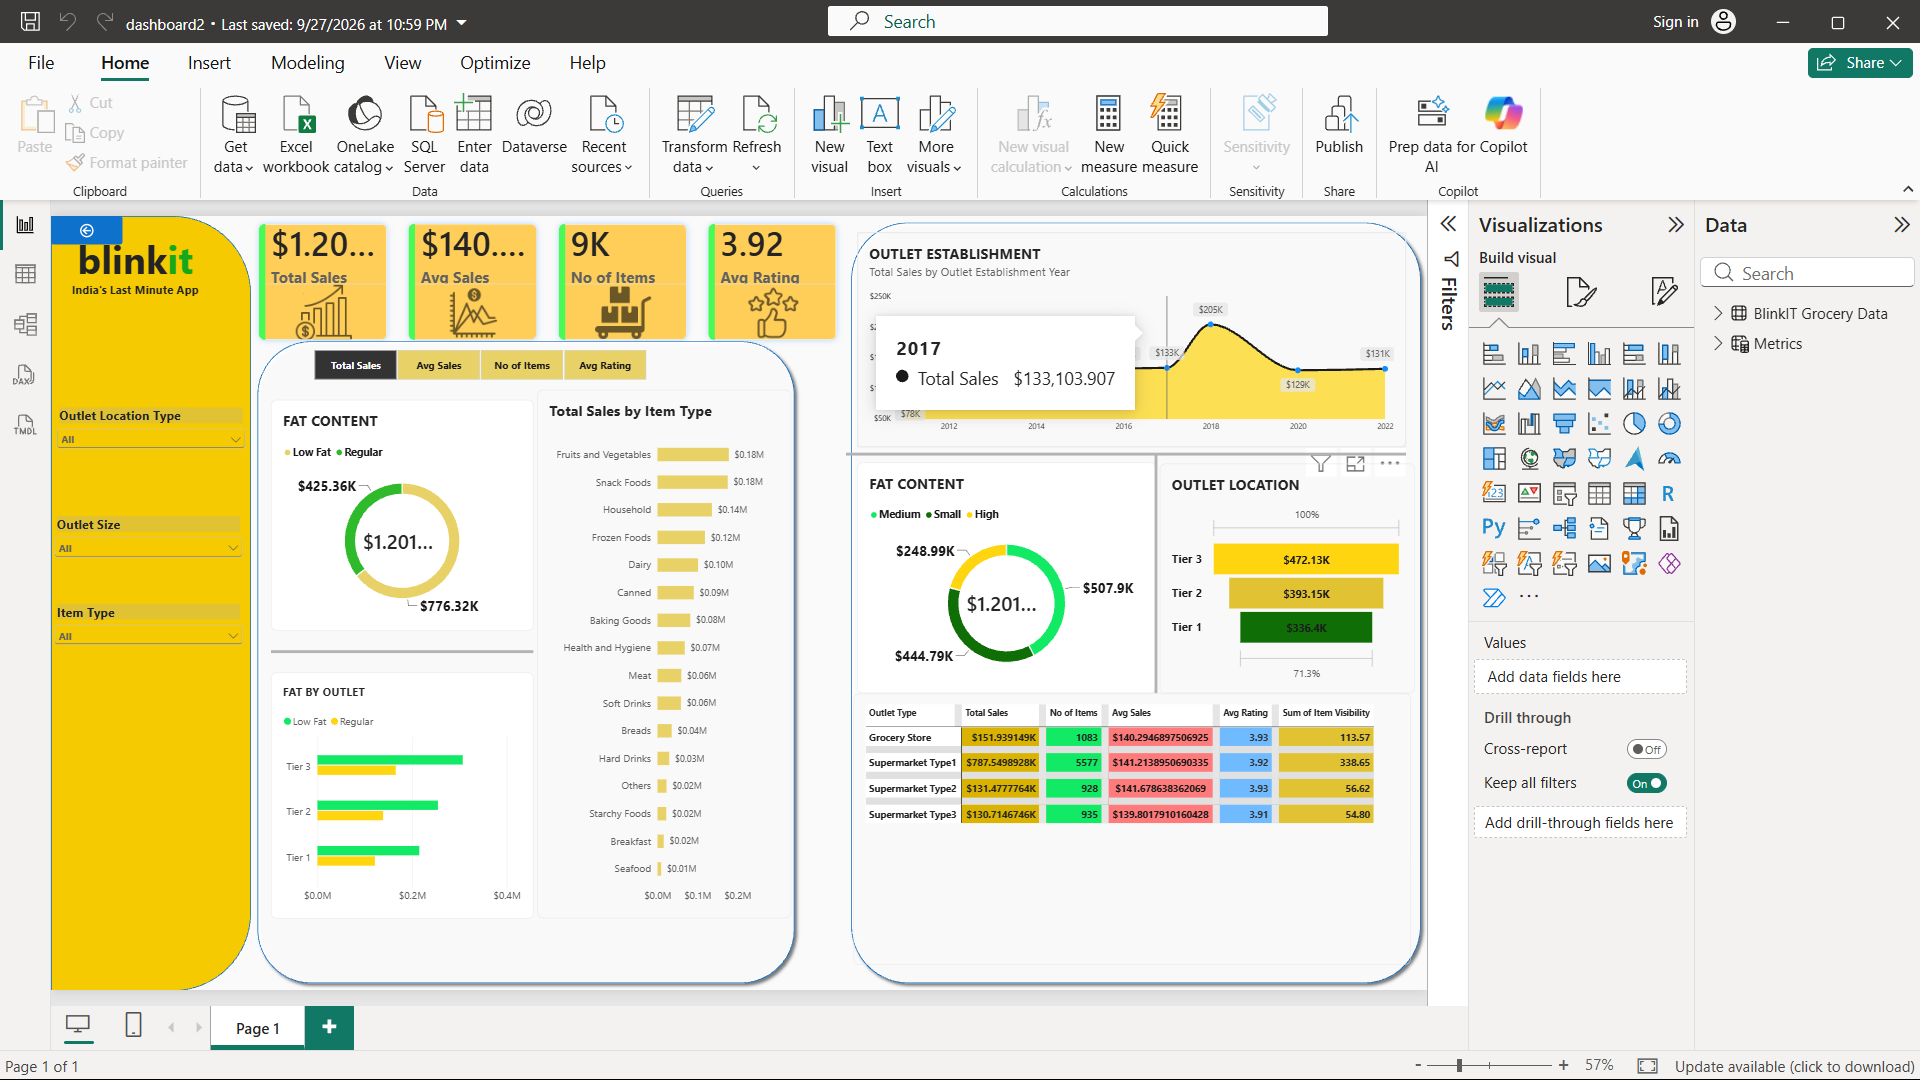

What the dashboard file says about the page in this screenshot:
{"tool":"powerbi","page":{"name":"Page 1","canvas":[1920,1080],"ordinal":0},"visuals":[{"type":"shape","box":[0,0,279.1,1081.4],"z":0},{"type":"textbox","box":[290,0,280,1080],"z":1000},{"type":"textbox","box":[0,90.7,235.5,75],"z":2000},{"type":"textbox","box":[0,22.7,235.5,80.2],"z":3000},{"type":"actionButton","box":[0,0,100,40],"z":4000},{"type":"cardVisual","fields":{"Data":["BlinkIT Grocery Data.Total Sales","BlinkIT Grocery Data.Avg Sales","BlinkIT Grocery Data.No of Items","BlinkIT Grocery Data.Avg Rating"]},"box":[279.1,0,830.2,184.9],"z":5000},{"type":"shape","box":[279.1,165.7,767.4,914],"z":6000},{"type":"donutChart","title":"FAT CONTENT","fields":{"Category":["BlinkIT Grocery Data.Item Fat Content"],"Y":["BlinkIT Grocery Data.Total Sales"]},"box":[307,256.4,366.3,322.7],"z":7000},{"type":"slicer","fields":{"Values":["Metrics.Metrics"]},"box":[347.1,184.9,502.3,45.3],"z":8000},{"type":"clusteredBarChart","title":"FAT BY OUTLET","fields":{"Category":["BlinkIT Grocery Data.Outlet Location Type"],"Series":["BlinkIT Grocery Data.Item Fat Content"],"Y":["BlinkIT Grocery Data.Total Sales"]},"box":[307,636.6,366.3,343.6],"z":9000},{"type":"shape","box":[307,505.8,366.3,204.1],"z":10000},{"type":"barChart","fields":{"Category":["BlinkIT Grocery Data.Item Type"],"Y":["BlinkIT Grocery Data.Total Sales"]},"box":[678.5,242.4,354.1,737.8],"z":11000},{"type":"shape","box":[1107.6,0,812.8,1079.7],"z":12000},{"type":"lineChart","title":"OUTLET ESTABLISHMENT","fields":{"Category":["BlinkIT Grocery Data.Outlet Establishment Year"],"Y":["BlinkIT Grocery Data.Total Sales"]},"box":[1125,22.7,765.7,300],"z":13000},{"type":"shape","box":[1109.3,230.2,781.4,204.1],"z":14000},{"type":"donutChart","title":"FAT CONTENT","fields":{"Category":["BlinkIT Grocery Data.Outlet Size"],"Y":["BlinkIT Grocery Data.Total Sales"]},"box":[1125,343.6,416.9,322.7],"z":15000},{"type":"shape","box":[1358.7,333.1,366.3,333.1],"z":16000},{"type":"funnel","title":"OUTLET LOCATION","fields":{"Category":["BlinkIT Grocery Data.Outlet Location Type"],"Y":["BlinkIT Grocery Data.Total Sales"]},"box":[1547.1,345.3,355.8,320.9],"z":17000},{"type":"pivotTable","fields":{"Rows":["BlinkIT Grocery Data.Outlet Type"],"Values":["BlinkIT Grocery Data.Total Sales","BlinkIT Grocery Data.No of Items","BlinkIT Grocery Data.Avg Sales","BlinkIT Grocery Data.Avg Rating","Sum(BlinkIT Grocery Data.Item Visibility)"]},"box":[1119.8,666.3,777.9,378.5],"z":18000},{"type":"slicer","fields":{"Values":["BlinkIT Grocery Data.Outlet Location Type"]},"box":[3.5,266.9,272.1,78.5],"z":19000},{"type":"slicer","fields":{"Values":["BlinkIT Grocery Data.Outlet Size"]},"box":[0,418.6,272.1,78.5],"z":20000},{"type":"slicer","fields":{"Values":["BlinkIT Grocery Data.Item Type"]},"box":[0,540.7,272.1,78.5],"z":21000}]}

Visuals, with their boxes on the page's 1920x1080 design canvas (x1, y1, x2, y2). These are canvas units, not pixel positions in the 1920x1080 screenshot, which may show the page scaled, cropped or inside an application window:
shape: 0,0,279,1081
textbox: 290,0,570,1080
textbox: 0,91,236,166
textbox: 0,23,236,103
actionButton: 0,0,100,40
cardVisual - BlinkIT Grocery Data.Total Sales x BlinkIT Grocery Data.Avg Sales: 279,0,1109,185
shape: 279,166,1046,1080
"FAT CONTENT" donutChart: 307,256,673,579
slicer - Metrics.Metrics: 347,185,849,230
"FAT BY OUTLET" clusteredBarChart: 307,637,673,980
shape: 307,506,673,710
barChart - BlinkIT Grocery Data.Item Type x BlinkIT Grocery Data.Total Sales: 678,242,1033,980
shape: 1108,0,1920,1080
"OUTLET ESTABLISHMENT" lineChart: 1125,23,1891,323
shape: 1109,230,1891,434
"FAT CONTENT" donutChart: 1125,344,1542,666
shape: 1359,333,1725,666
"OUTLET LOCATION" funnel: 1547,345,1903,666
pivotTable - BlinkIT Grocery Data.Outlet Type x BlinkIT Grocery Data.Total Sales: 1120,666,1898,1045
slicer - BlinkIT Grocery Data.Outlet Location Type: 4,267,276,345
slicer - BlinkIT Grocery Data.Outlet Size: 0,419,272,497
slicer - BlinkIT Grocery Data.Item Type: 0,541,272,619
